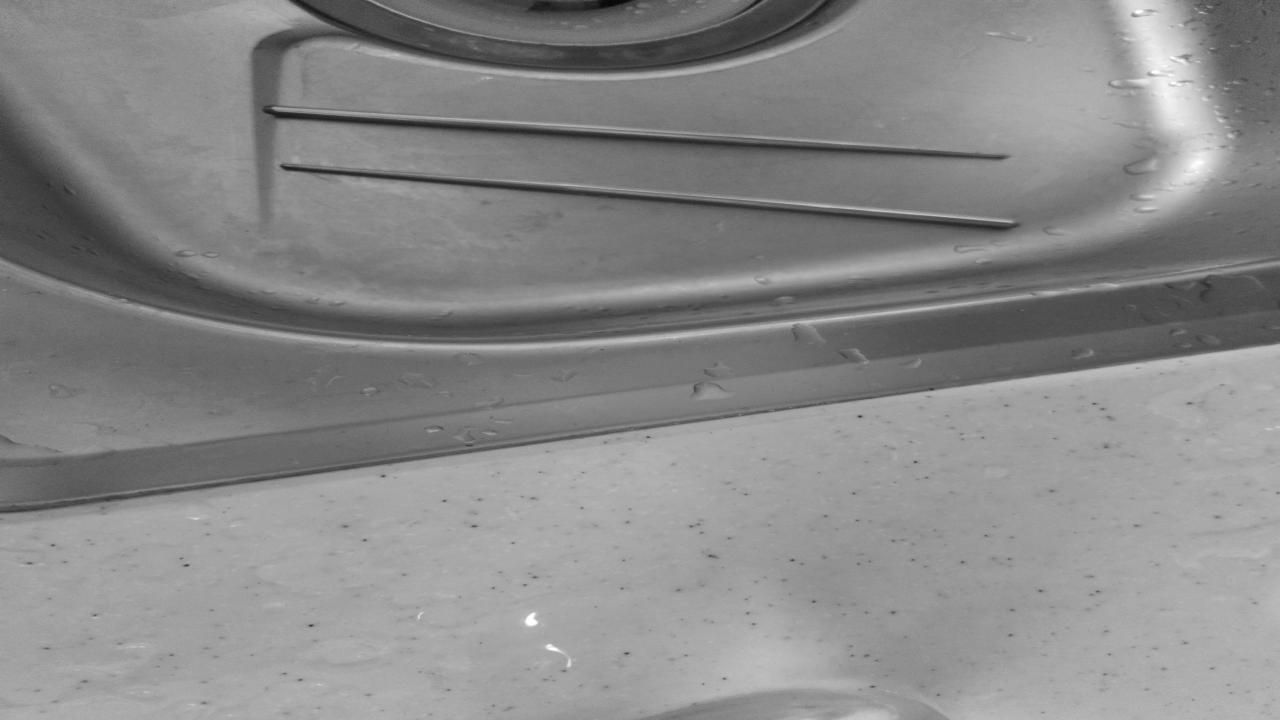chopstick: (275, 106, 1018, 227)
